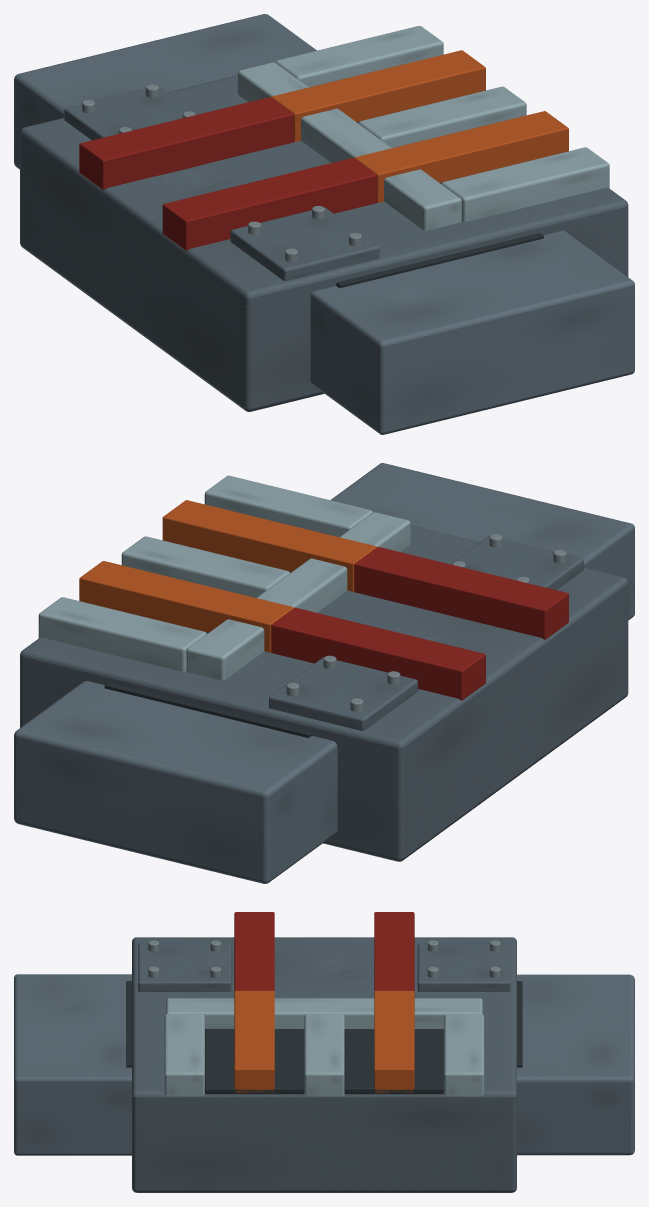
The picture shows the model from 3 angles, top to bottom: view 1: azimuth 30°, elevation 25°; view 2: azimuth 150°, elevation 25°; view 3: azimuth 270°, elevation 25°; orthographic projection. The views are drawn at different scales.
Visible parts, largest first — view 1: Mauna Multiple Hurt Unit central casing, Mauna Multiple Hurt Unit forward terminal, Mauna Multiple Hurt Unit rear terminal, Mauna Multiple Hurt Unit red transverse field 1, Mauna Multiple Hurt Unit red transverse field 0, Mauna Multiple Hurt Unit orange transverse field 0, Mauna Multiple Hurt Unit orange transverse field 1, Mauna Multiple Hurt Unit pale side spine, Mauna Multiple Hurt Unit pale crossbar 0, Mauna Multiple Hurt Unit service cover 0, Mauna Multiple Hurt Unit pale crossbar 1, Mauna Multiple Hurt Unit pale crossbar 2 (+2 smaller); view 2: Mauna Multiple Hurt Unit central casing, Mauna Multiple Hurt Unit rear terminal, Mauna Multiple Hurt Unit forward terminal, Mauna Multiple Hurt Unit red transverse field 0, Mauna Multiple Hurt Unit red transverse field 1, Mauna Multiple Hurt Unit orange transverse field 0, Mauna Multiple Hurt Unit orange transverse field 1, Mauna Multiple Hurt Unit pale side spine, Mauna Multiple Hurt Unit pale crossbar 2, Mauna Multiple Hurt Unit service cover 1, Mauna Multiple Hurt Unit pale crossbar 0, Mauna Multiple Hurt Unit pale crossbar 1 (+2 smaller); view 3: Mauna Multiple Hurt Unit central casing, Mauna Multiple Hurt Unit forward terminal, Mauna Multiple Hurt Unit rear terminal, Mauna Multiple Hurt Unit pale side spine, Mauna Multiple Hurt Unit dark inset floor 0, Mauna Multiple Hurt Unit dark inset floor 1, Mauna Multiple Hurt Unit service cover 0, Mauna Multiple Hurt Unit service cover 1, Mauna Multiple Hurt Unit orange transverse field 0, Mauna Multiple Hurt Unit orange transverse field 1, Mauna Multiple Hurt Unit pale crossbar 1, Mauna Multiple Hurt Unit pale crossbar 0 (+5 smaller).
Boxes of the visible parts, x1=… form: Mauna Multiple Hurt Unit central casing: x1=20, y1=75, x2=628, y2=411; Mauna Multiple Hurt Unit forward terminal: x1=310, y1=230, x2=634, y2=434; Mauna Multiple Hurt Unit rear terminal: x1=14, y1=14, x2=316, y2=169; Mauna Multiple Hurt Unit red transverse field 1: x1=79, y1=97, x2=293, y2=189; Mauna Multiple Hurt Unit red transverse field 0: x1=162, y1=158, x2=377, y2=250; Mauna Multiple Hurt Unit orange transverse field 0: x1=354, y1=111, x2=568, y2=202; Mauna Multiple Hurt Unit orange transverse field 1: x1=271, y1=50, x2=485, y2=141; Mauna Multiple Hurt Unit pale side spine: x1=237, y1=62, x2=461, y2=230; Mauna Multiple Hurt Unit pale crossbar 0: x1=441, y1=147, x2=609, y2=221; Mauna Multiple Hurt Unit service cover 0: x1=230, y1=207, x2=379, y2=280; Mauna Multiple Hurt Unit pale crossbar 1: x1=358, y1=86, x2=526, y2=147; Mauna Multiple Hurt Unit pale crossbar 2: x1=275, y1=26, x2=443, y2=87; Mauna Multiple Hurt Unit central casing: x1=20, y1=525, x2=628, y2=861; Mauna Multiple Hurt Unit rear terminal: x1=14, y1=681, x2=337, y2=883; Mauna Multiple Hurt Unit forward terminal: x1=330, y1=463, x2=634, y2=620; Mauna Multiple Hurt Unit red transverse field 0: x1=354, y1=547, x2=568, y2=639; Mauna Multiple Hurt Unit red transverse field 1: x1=271, y1=607, x2=485, y2=700; Mauna Multiple Hurt Unit orange transverse field 0: x1=162, y1=500, x2=376, y2=591; Mauna Multiple Hurt Unit orange transverse field 1: x1=79, y1=561, x2=293, y2=652; Mauna Multiple Hurt Unit pale side spine: x1=186, y1=512, x2=410, y2=680; Mauna Multiple Hurt Unit pale crossbar 2: x1=38, y1=597, x2=206, y2=671; Mauna Multiple Hurt Unit service cover 1: x1=269, y1=657, x2=417, y2=730; Mauna Multiple Hurt Unit pale crossbar 0: x1=204, y1=475, x2=372, y2=537; Mauna Multiple Hurt Unit pale crossbar 1: x1=121, y1=536, x2=289, y2=597; Mauna Multiple Hurt Unit central casing: x1=132, y1=937, x2=516, y2=1192; Mauna Multiple Hurt Unit forward terminal: x1=14, y1=974, x2=131, y2=1155; Mauna Multiple Hurt Unit rear terminal: x1=517, y1=974, x2=634, y2=1155; Mauna Multiple Hurt Unit pale side spine: x1=166, y1=998, x2=482, y2=1028; Mauna Multiple Hurt Unit dark inset floor 0: x1=205, y1=1029, x2=304, y2=1094; Mauna Multiple Hurt Unit dark inset floor 1: x1=344, y1=1029, x2=443, y2=1094; Mauna Multiple Hurt Unit service cover 0: x1=138, y1=943, x2=231, y2=991; Mauna Multiple Hurt Unit service cover 1: x1=417, y1=943, x2=510, y2=991; Mauna Multiple Hurt Unit orange transverse field 0: x1=234, y1=991, x2=274, y2=1093; Mauna Multiple Hurt Unit orange transverse field 1: x1=374, y1=991, x2=414, y2=1093; Mauna Multiple Hurt Unit pale crossbar 1: x1=304, y1=1014, x2=344, y2=1096; Mauna Multiple Hurt Unit pale crossbar 0: x1=164, y1=1014, x2=204, y2=1096.
Size of the model in its own units: 1.2 by 0.4575 by 2.
7 materials, 3 textured.
